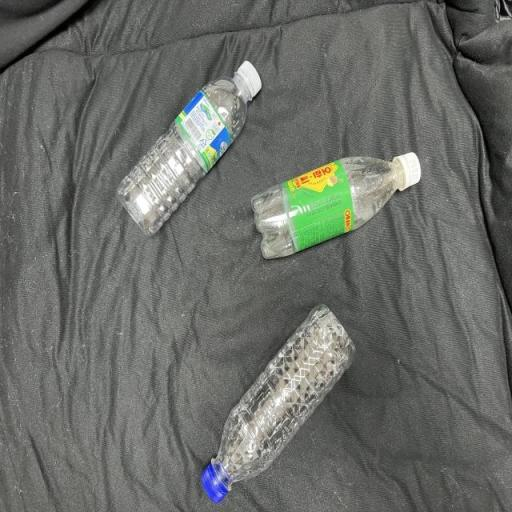plastic: (201, 306, 356, 506), (117, 62, 262, 236), (252, 153, 422, 262)
